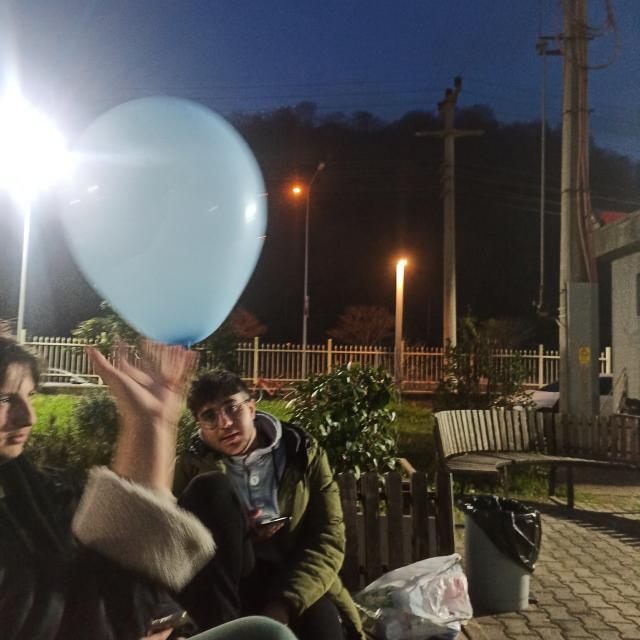balloon: (62, 96, 268, 344)
